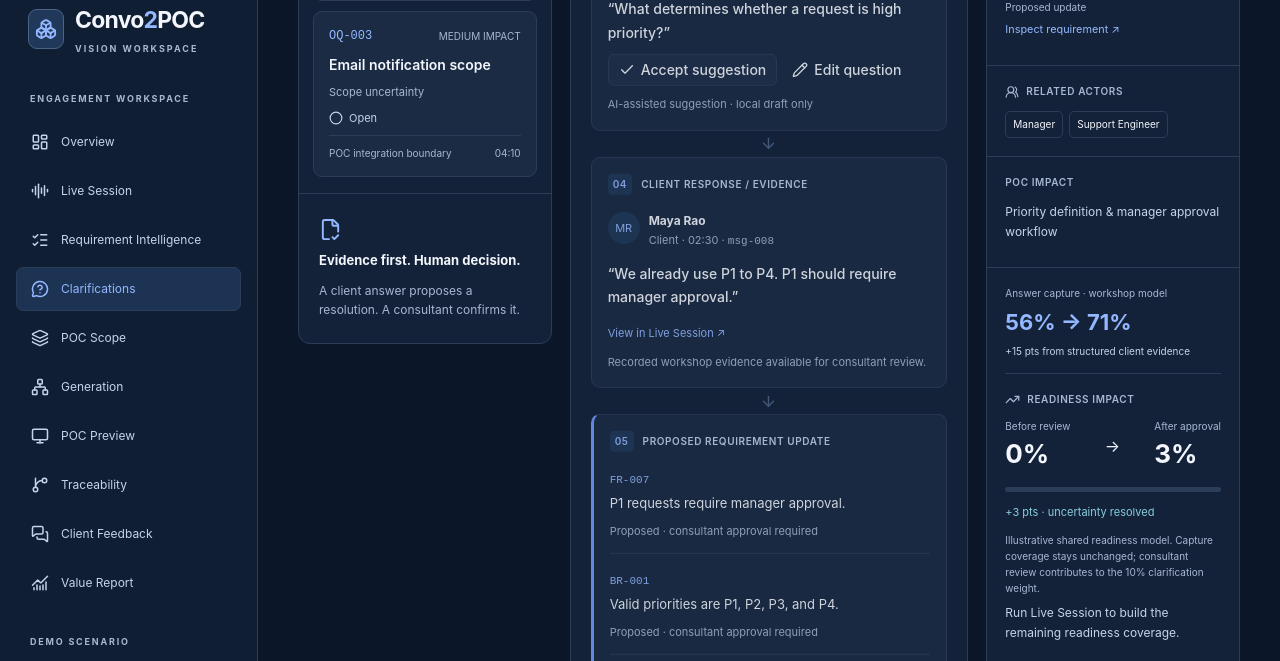
Test: Clarification Center › navigates to canonical session evidence without revealing or advancing the transcript
(page scrolled)
What coordinates should you click on to do the following:
click the link "View in Live Session ↗"
I would click on:
 (662, 333)
Its box is [608,326,725,340].
(page scrolled)
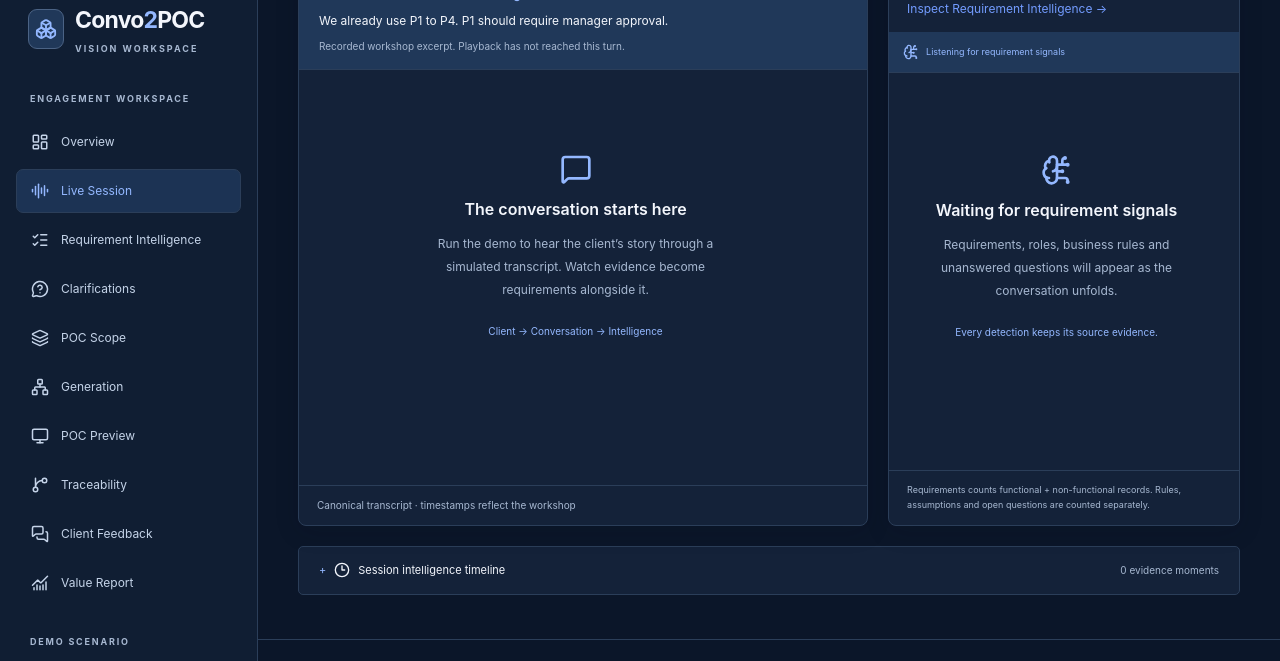
Result: the element named "Linked transcript evidence" shows "We already use P1 to P4. P1 should require manager approval." at [319,13,668,28]
